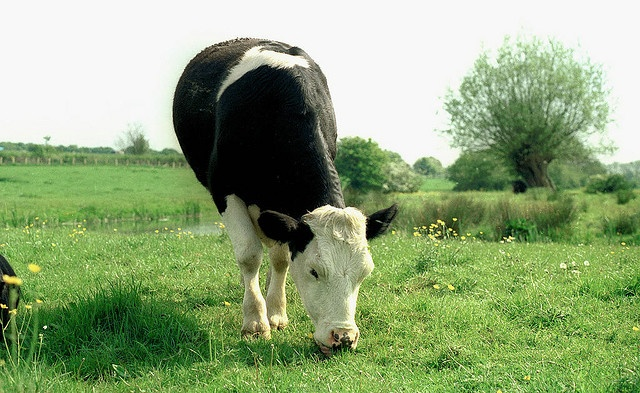cow: (169, 35, 548, 393)
